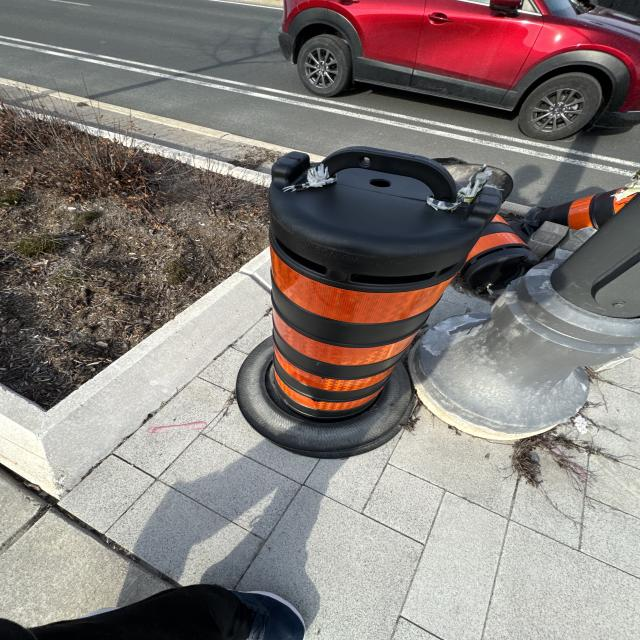Teraffic Barrel: (236, 148, 502, 458), (409, 197, 640, 441), (525, 171, 640, 230), (461, 215, 538, 292)
